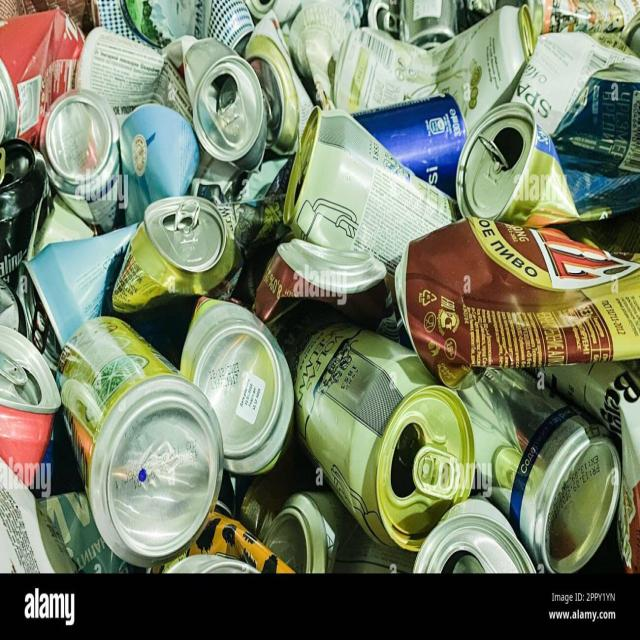can: (6, 0, 631, 571)
